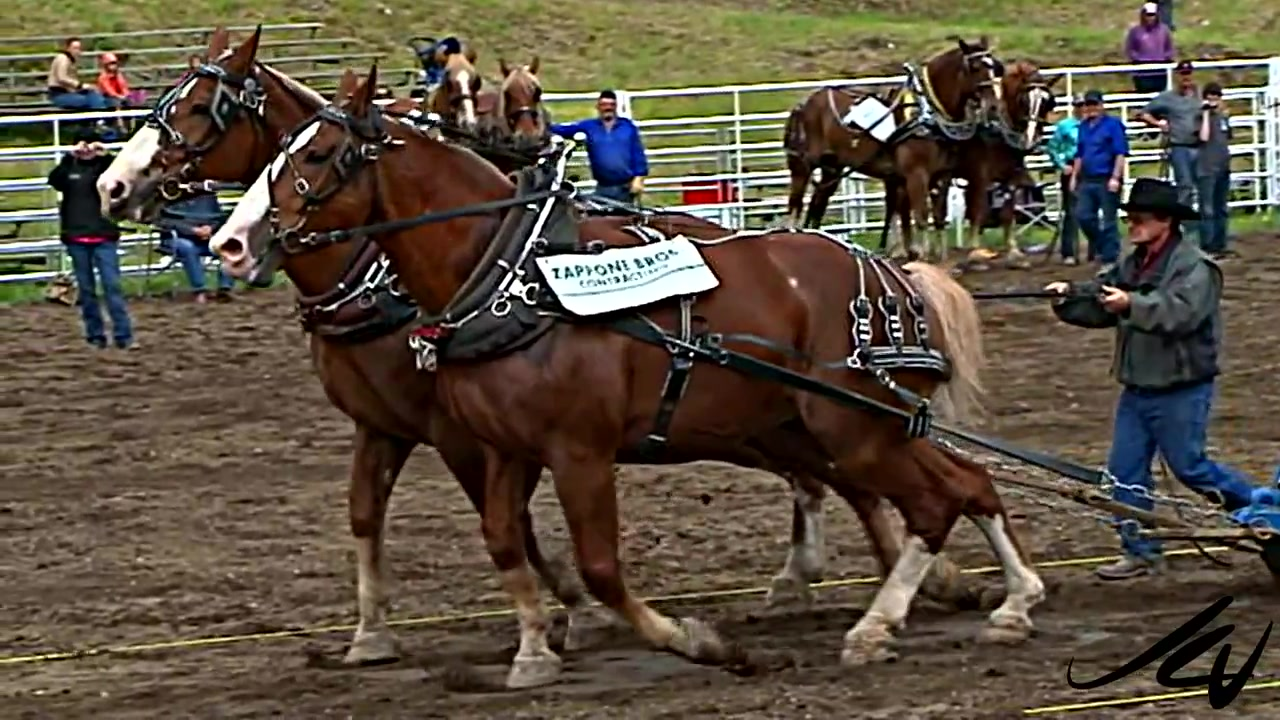horse: (204, 64, 1053, 693)
